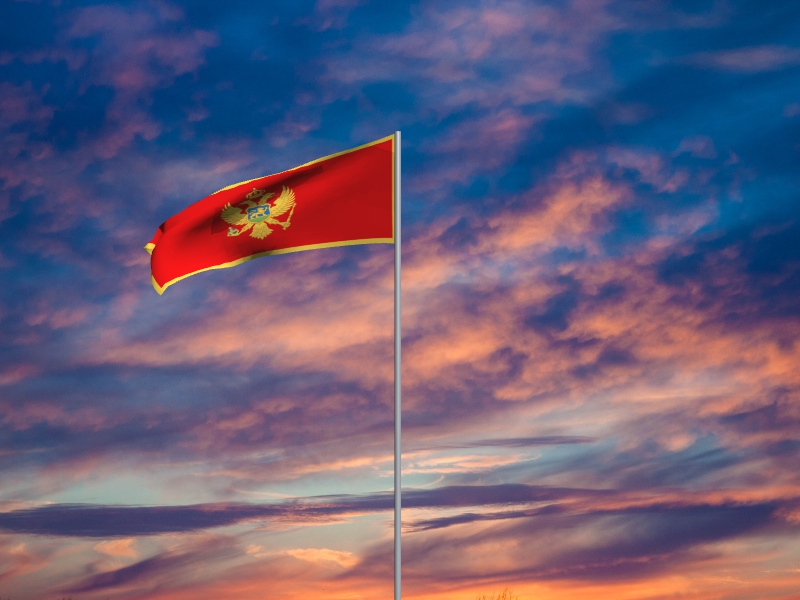me: (143, 134, 395, 298)
